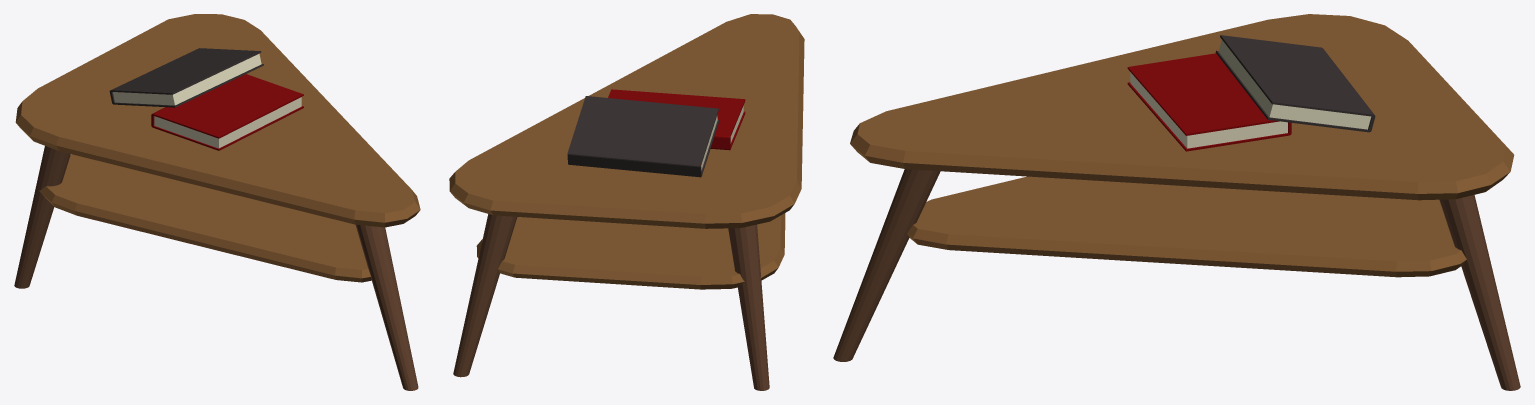
Rendered from table de salon.fbx.
3 views of the same model, side by side, from view 1: azimuth 30°, elevation 25°; view 2: azimuth 150°, elevation 25°; view 3: azimuth 270°, elevation 25° (orthographic). The views are drawn at different scales.
Parts seen in each view (by area): view 1: étagere.001; view 2: étagere.001; view 3: étagere.001.
Boxes of the visible parts, x1,y1,x2,y2 form: étagere.001: (14,14,420,390); étagere.001: (449,14,804,390); étagere.001: (833,14,1520,390).
Bounding box in the file's own units: 65.43 × 46.9 × 109.
